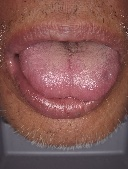tongue: (17, 45, 121, 101)
